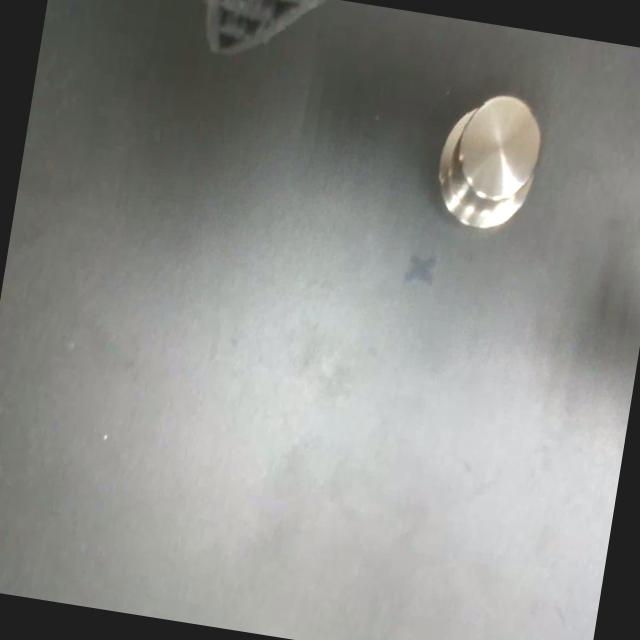sensor: (429, 86, 548, 237)
